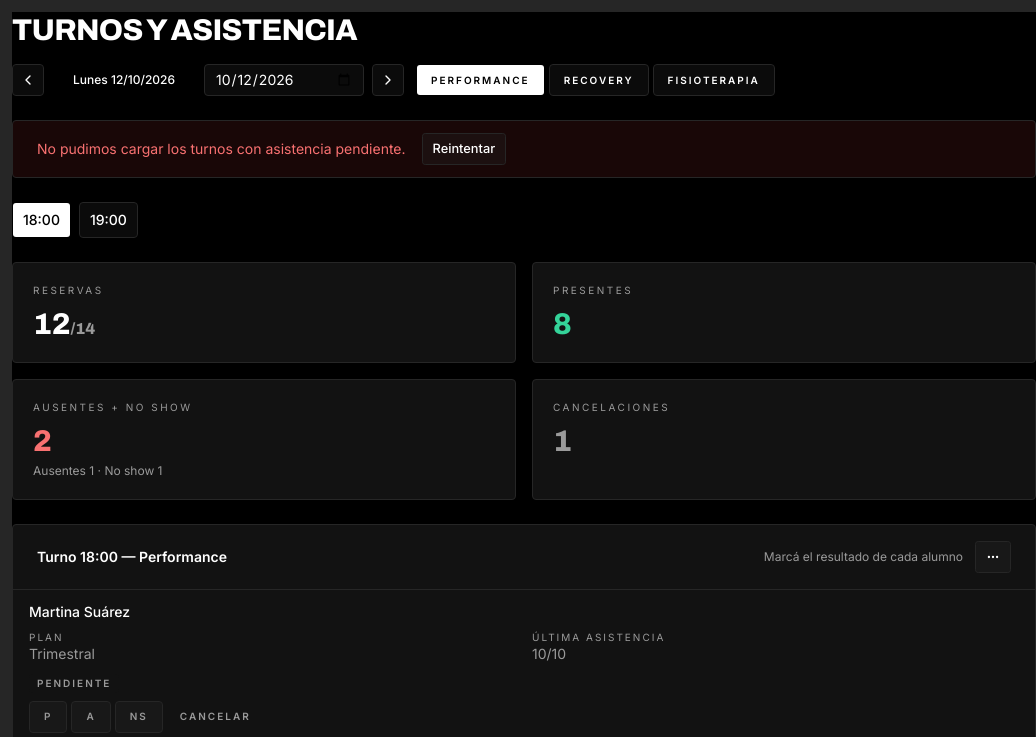
it: TurnosView › tells the staff when the pending attendance list cannot be loaded and lets them retry
expect the text "No pudimos cargar los turnos con asistencia pendiente." is shown: met, box x1=37 y1=140 x2=406 y2=157
Click the button "Reintentar" at (464, 149), box x1=422 y1=133 x2=506 y2=165
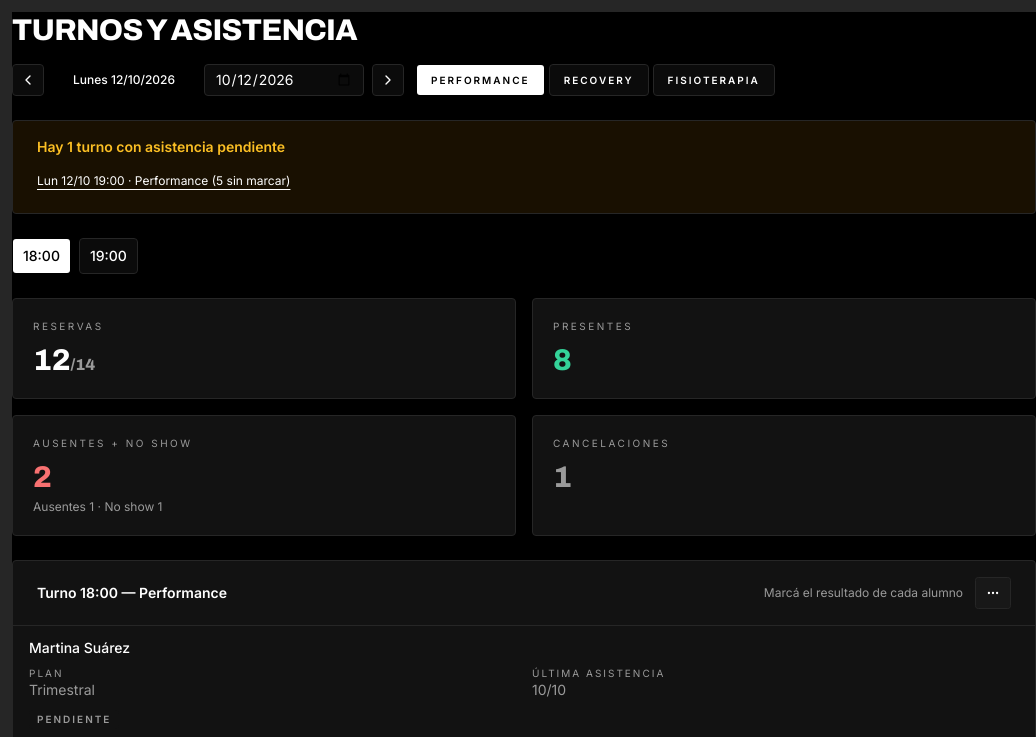
expect the text "Hay 1 turno con asistencia pendiente" is shown: met, box x1=37 y1=138 x2=285 y2=155
expect the text "No pudimos cargar los turnos con asistencia pendiente." is gone: met
